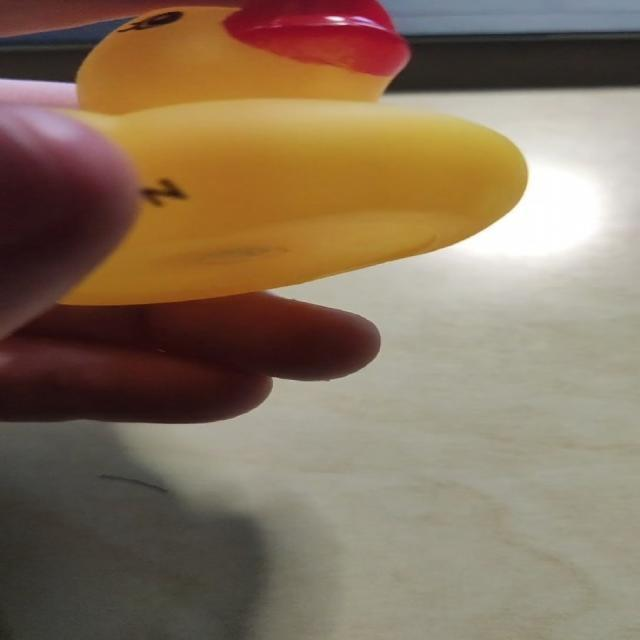rubber-duck: (62, 0, 525, 303)
